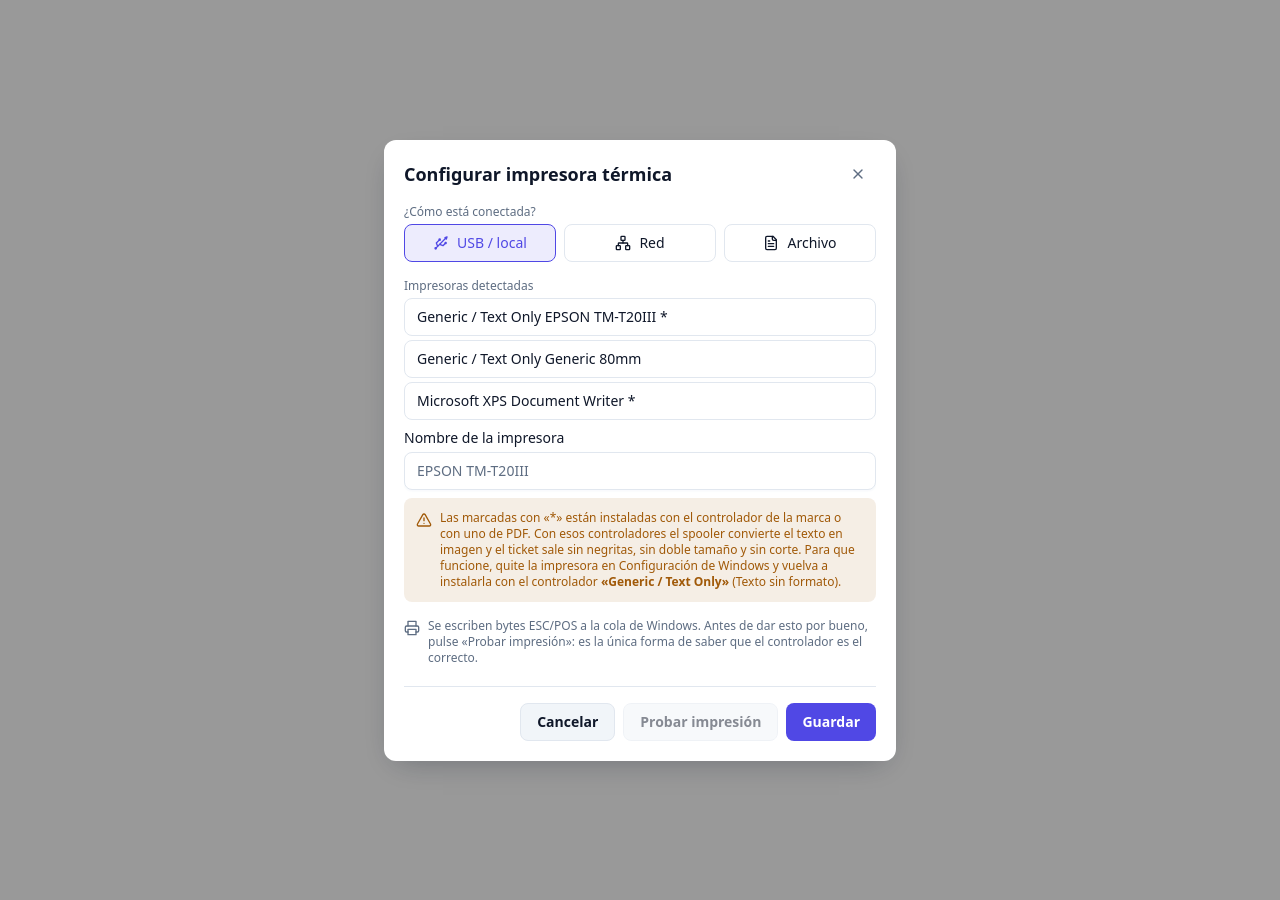
it: ConfigurarImpresoraModal › no deja guardar un destino a medio rellenar
The width and height of the screenshot is (1280, 900).
Click the button "Red".
click(640, 242)  # box x1=564 y1=224 x2=716 y2=262
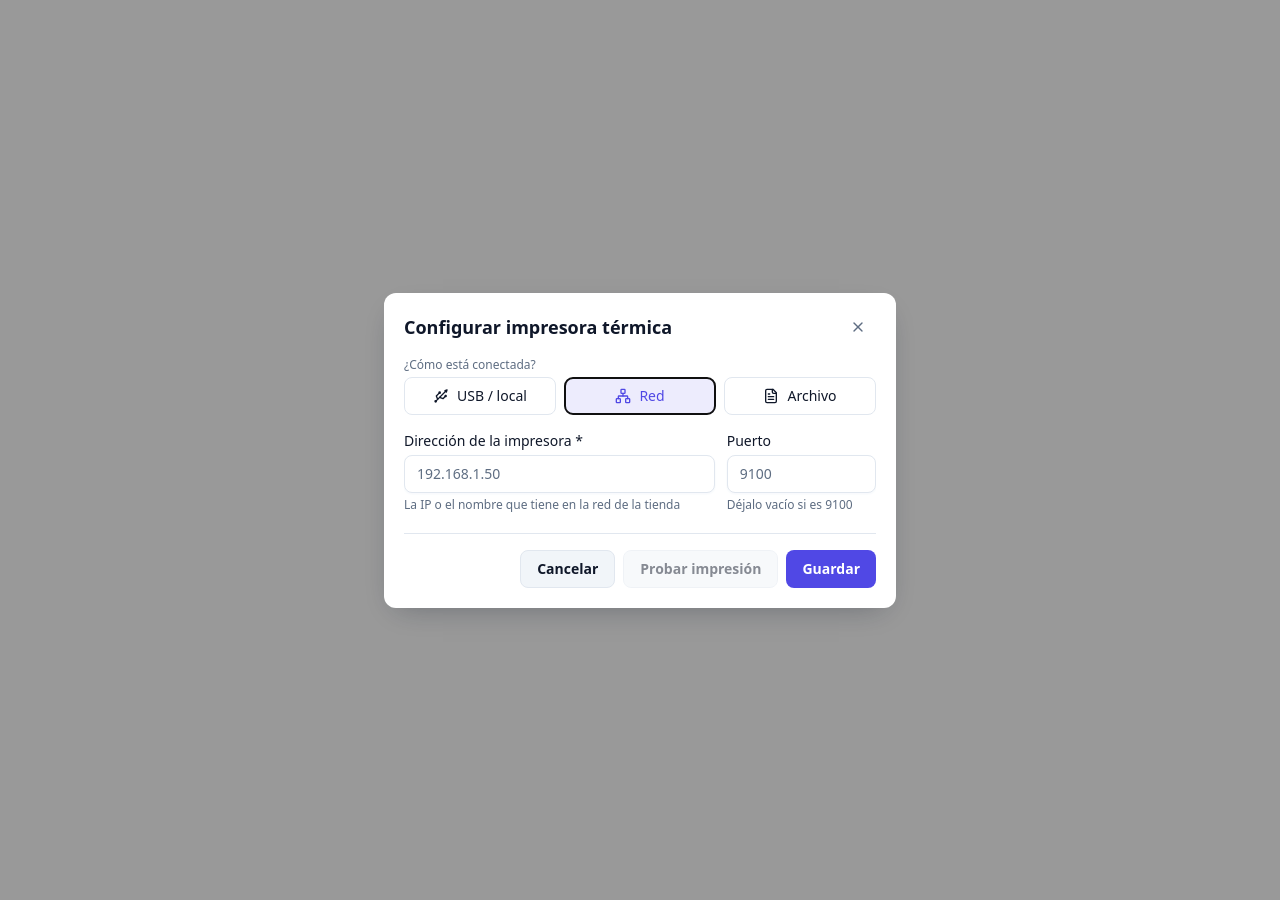
Click the button "Guardar".
click(831, 568)  # box x1=786 y1=550 x2=876 y2=588
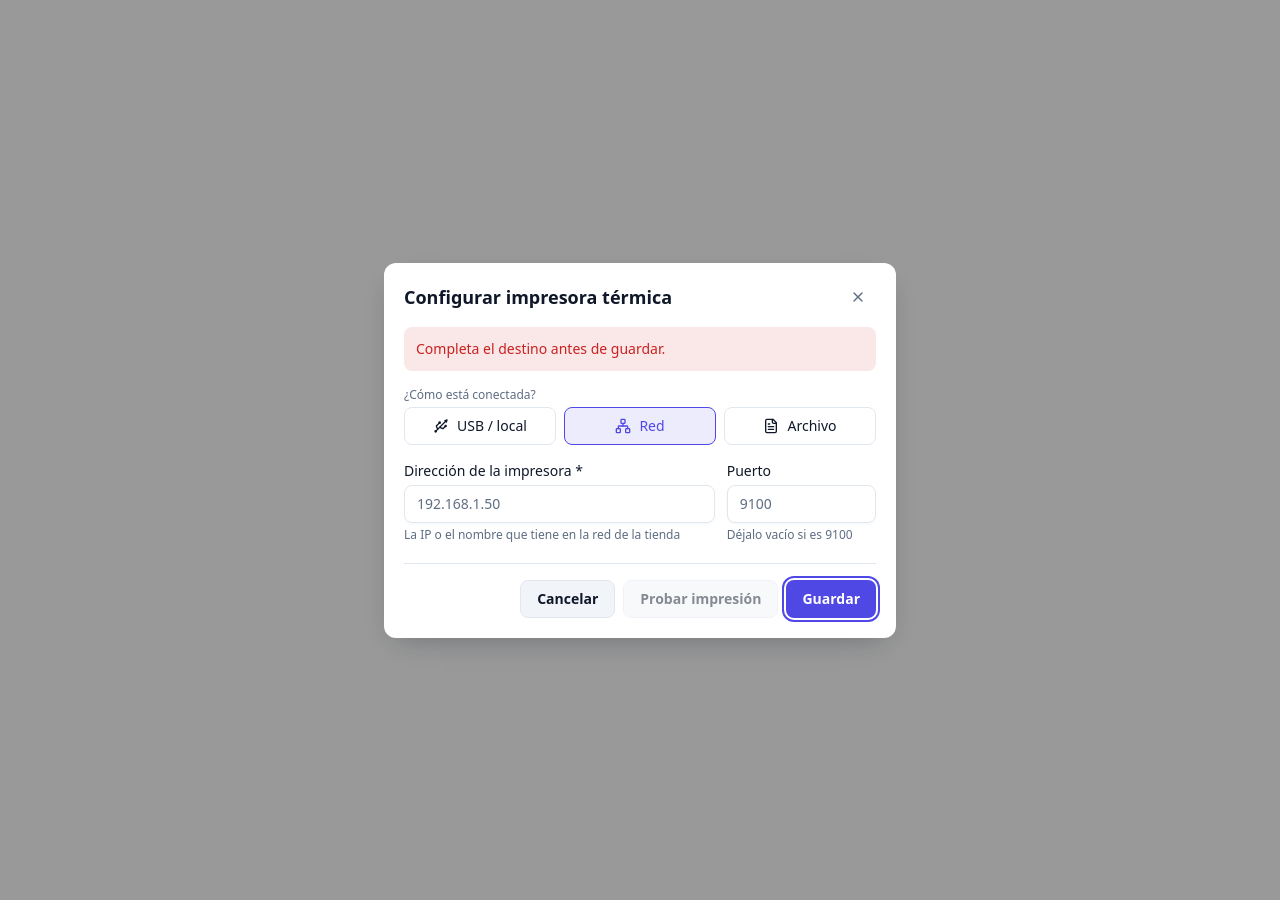
Expected: the message shows "Completa el destino antes de guardar", x1=416 y1=338 x2=665 y2=358
